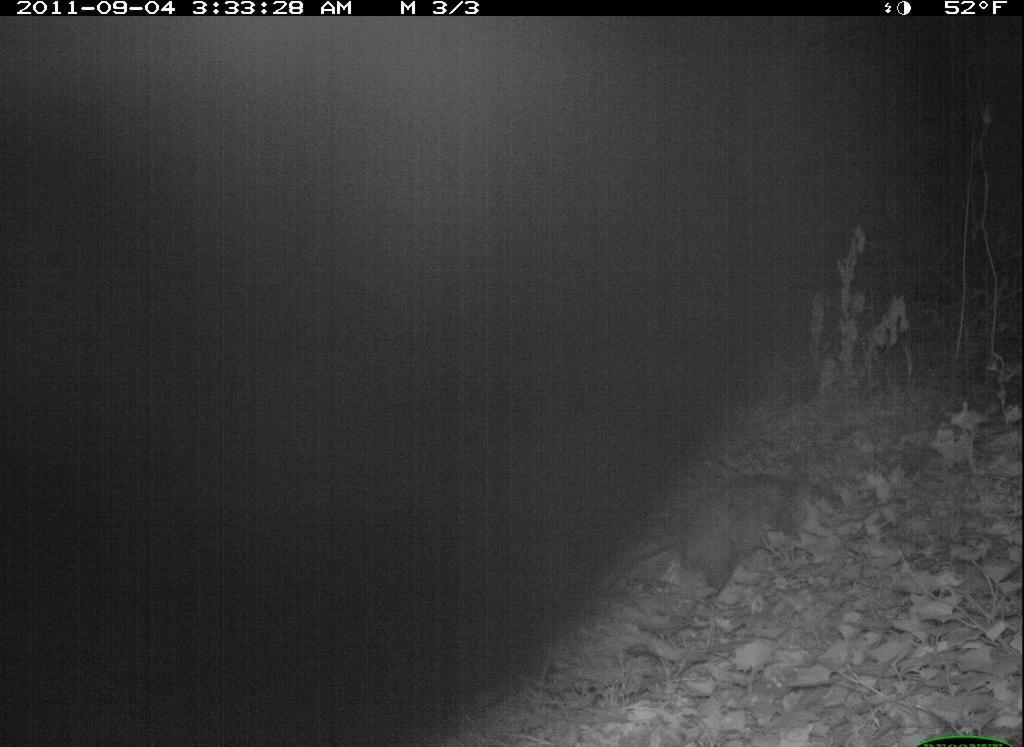opossum: (596, 466, 830, 611)
